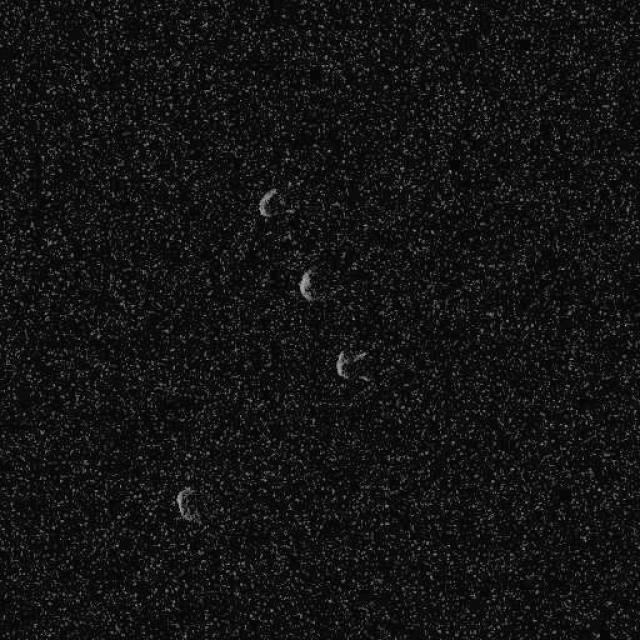D2: (334, 348, 371, 382), (174, 485, 201, 524), (256, 186, 282, 219), (296, 266, 319, 302)
